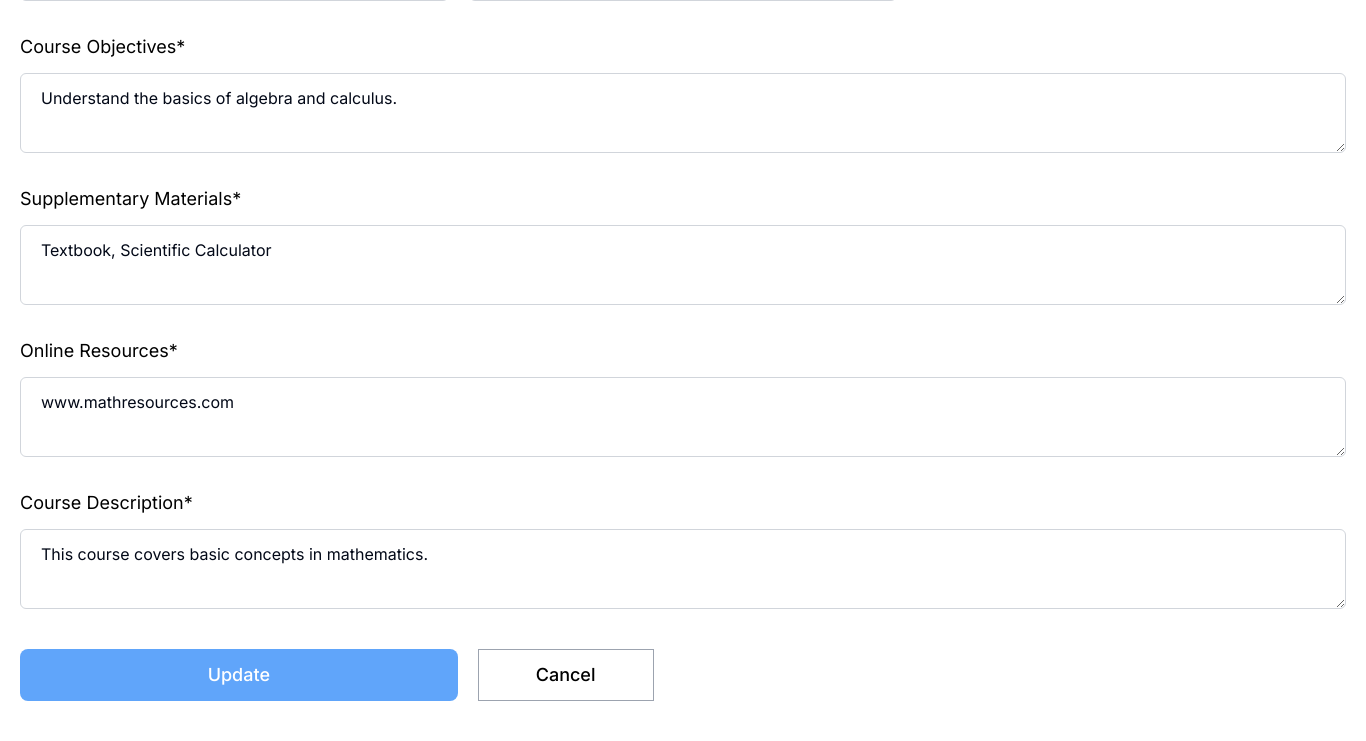
Test case: CourseEdit Component › displays success modal after successful course update
(page scrolled)
Click the button "Update".
click(239, 675)  # box [20,649,458,701]
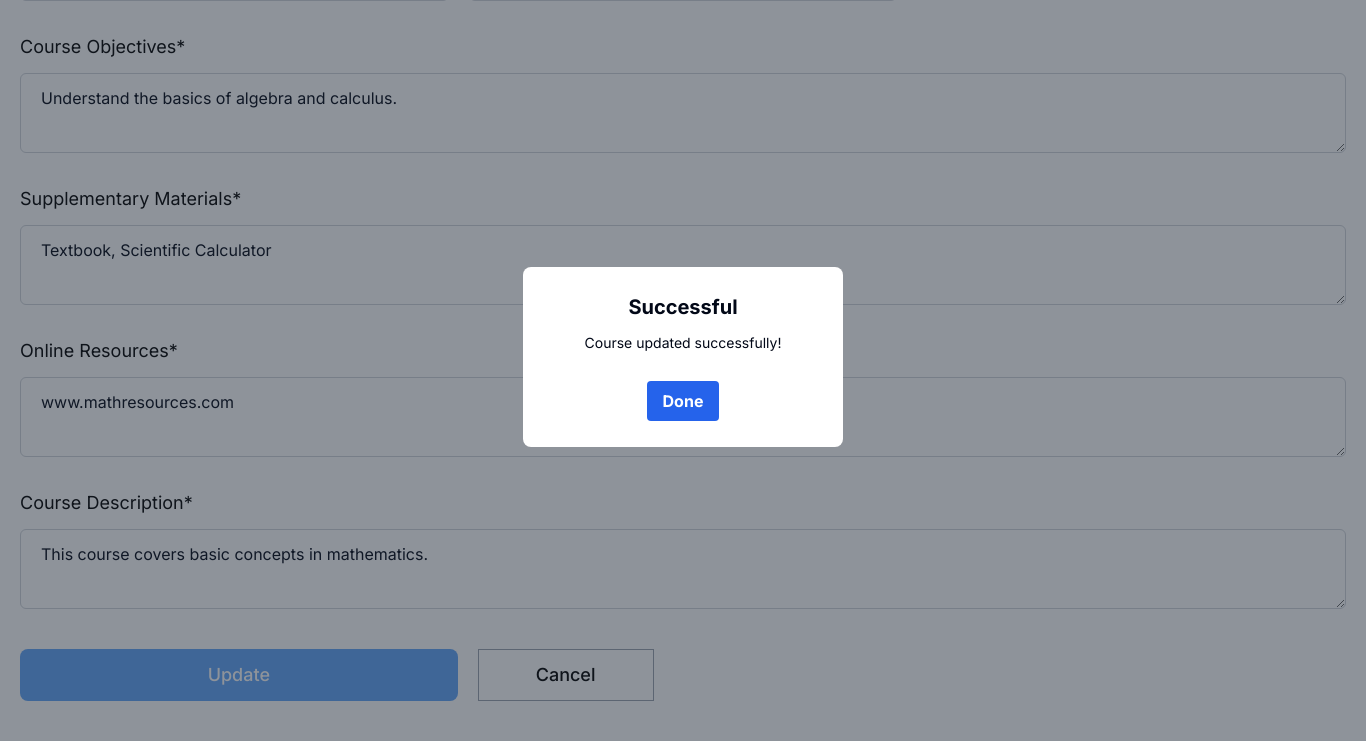
Expected: the heading "Course updated successfully!" is shown, [585,333,782,353]
